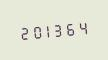four: (78, 17, 89, 36)
one: (42, 21, 53, 40)
six: (66, 18, 77, 37)
three: (54, 20, 65, 38)
two: (17, 23, 28, 42)
zero: (29, 22, 40, 41)
